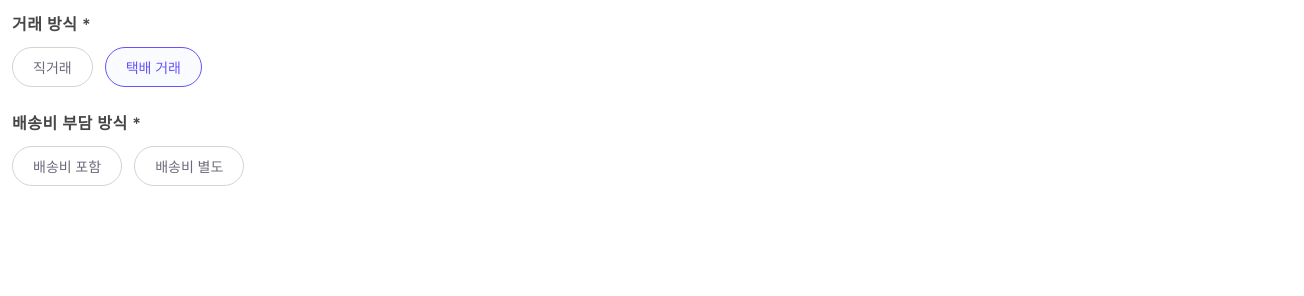
it: TradeMethodField › shows the delivery fee input when separate shipping is selected
The width and height of the screenshot is (1304, 296).
Click the radio button labelled "배송비 별도": {"x": 189, "y": 166} [134,146,244,186]
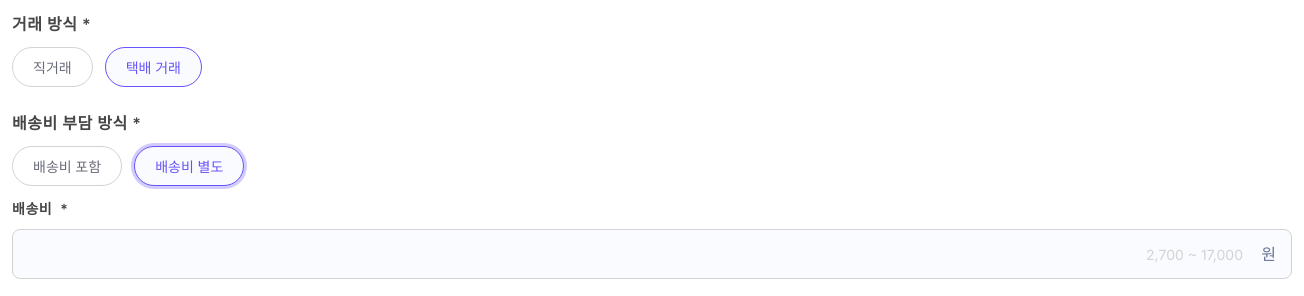
Check: the field labelled "배송비" is shown, box [12,229,1292,279]
